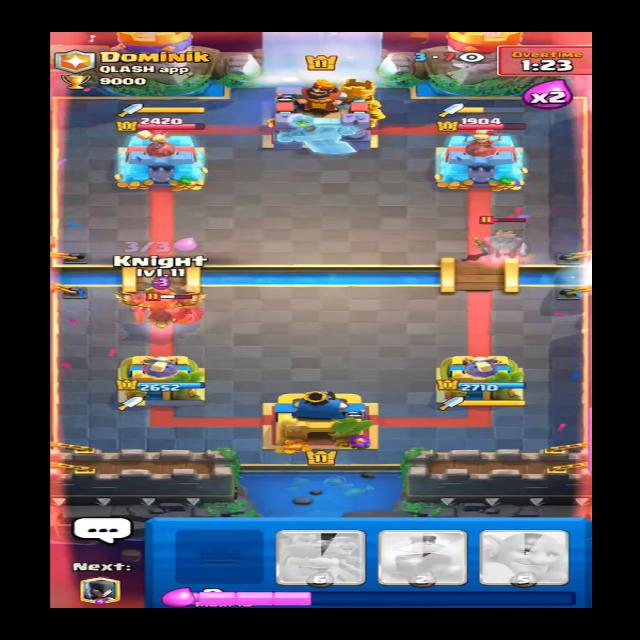Pekka: (132, 284, 215, 330)
Royalghost: (470, 215, 550, 265)
